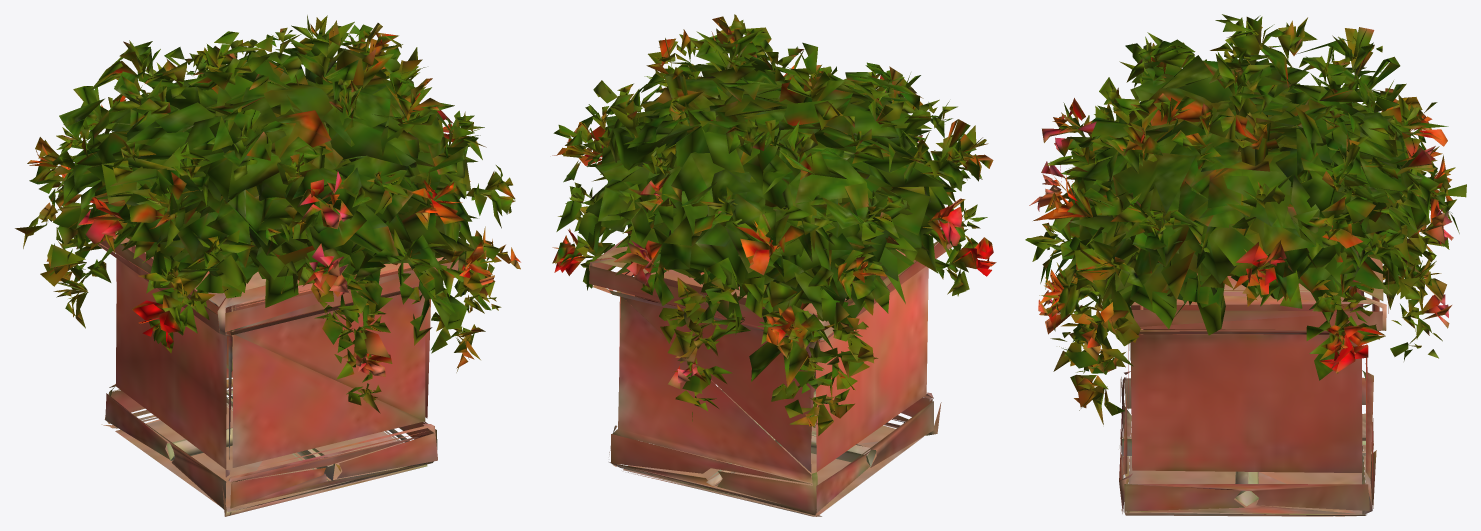
The model's file is hibiscus.glb.
The picture shows the model from 3 angles, left to right: view 1: azimuth 30°, elevation 25°; view 2: azimuth 150°, elevation 25°; view 3: azimuth 270°, elevation 25°; orthographic projection. The views are drawn at different scales.
Parts seen in each view (by area): view 1: geometry_0; view 2: geometry_0; view 3: geometry_0.
Part boxes in pixels (bbox=[...]): geometry_0: bbox=[15, 15, 520, 516]; geometry_0: bbox=[552, 14, 996, 516]; geometry_0: bbox=[1025, 14, 1466, 516].
Size of the model in its own units: 0.9124 by 0.9514 by 0.8909.
Materials: 1 (1 with a texture image).
